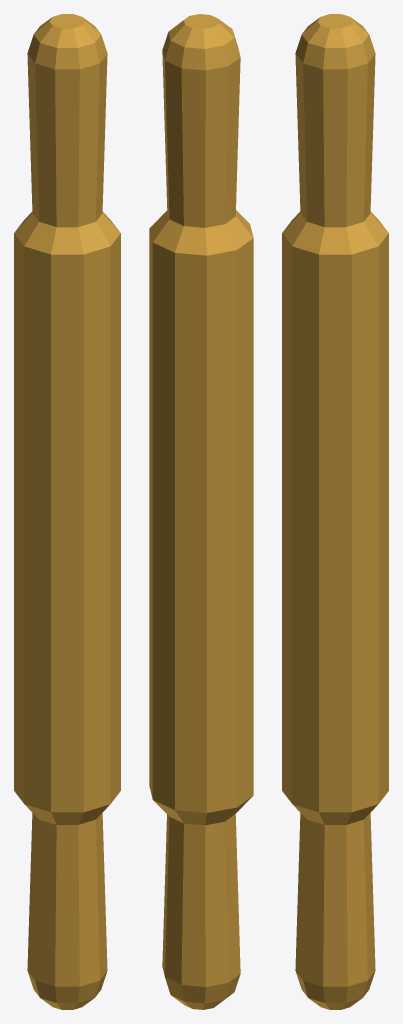
The model's file is RoloDeMadeira.fbx.
3 renders of one model, left to right at view 1: azimuth 90°, elevation 25°; view 2: azimuth 150°, elevation 25°; view 3: azimuth 270°, elevation 25°, orthographic.
Visible parts, largest first — view 1: RoloDeMadeira; view 2: RoloDeMadeira; view 3: RoloDeMadeira.
Boxes of the visible parts, left/top/right/bottom form: RoloDeMadeira: left=14, top=14, right=120, bottom=1009; RoloDeMadeira: left=149, top=14, right=253, bottom=1009; RoloDeMadeira: left=282, top=14, right=388, bottom=1009.
Size of the model in its own units: 5.32 by 56.81 by 5.6.
1 material, 1 textured.
